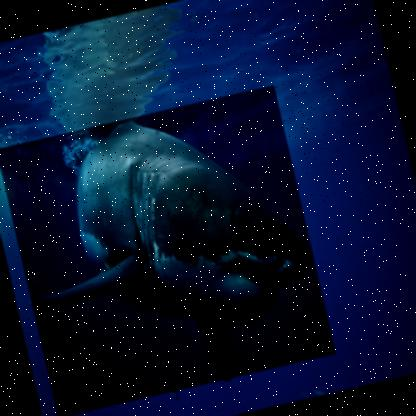white-shark: (0, 85, 337, 415)
